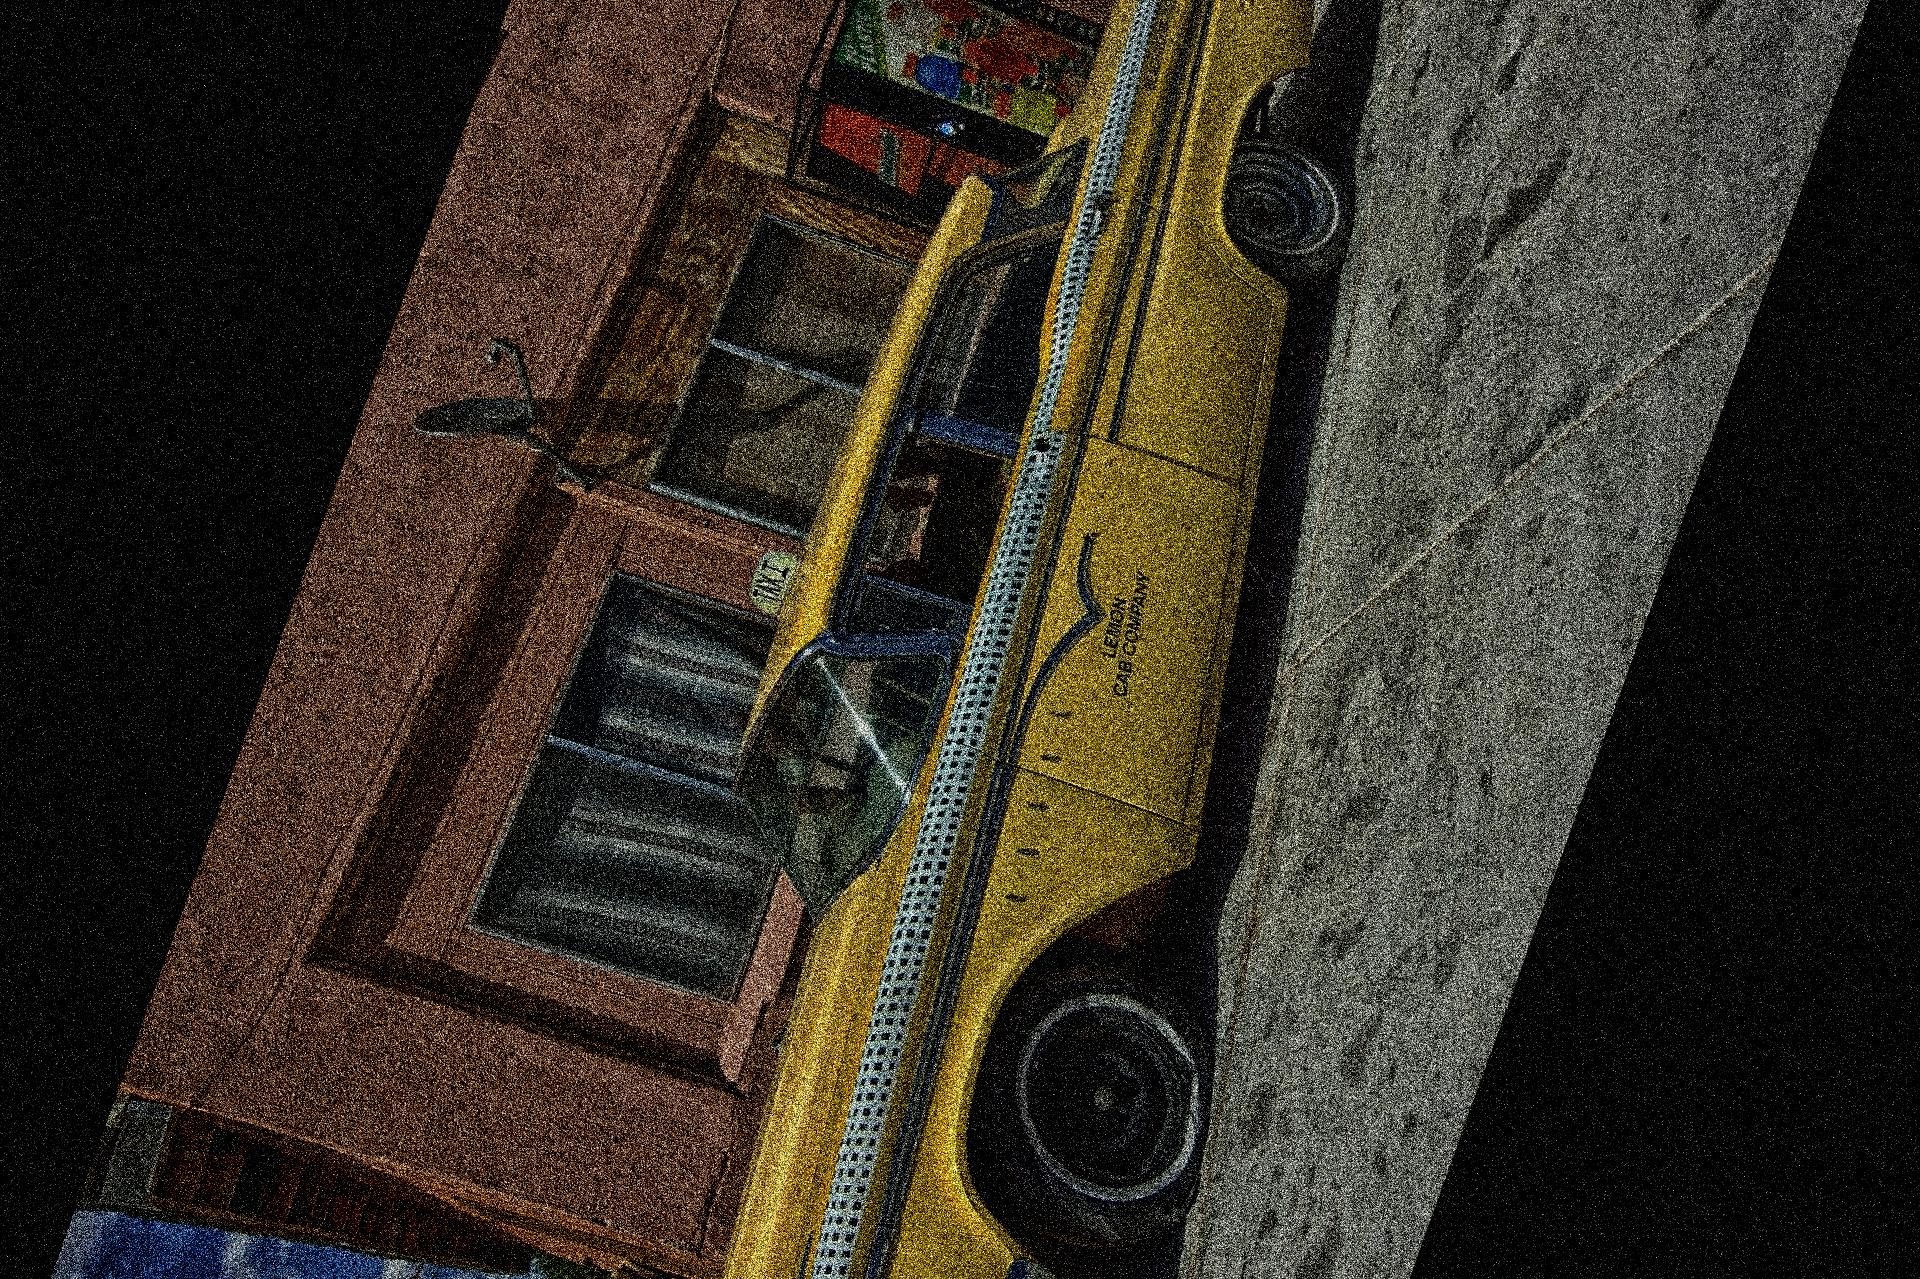taxi: (705, 1, 1355, 1276)
